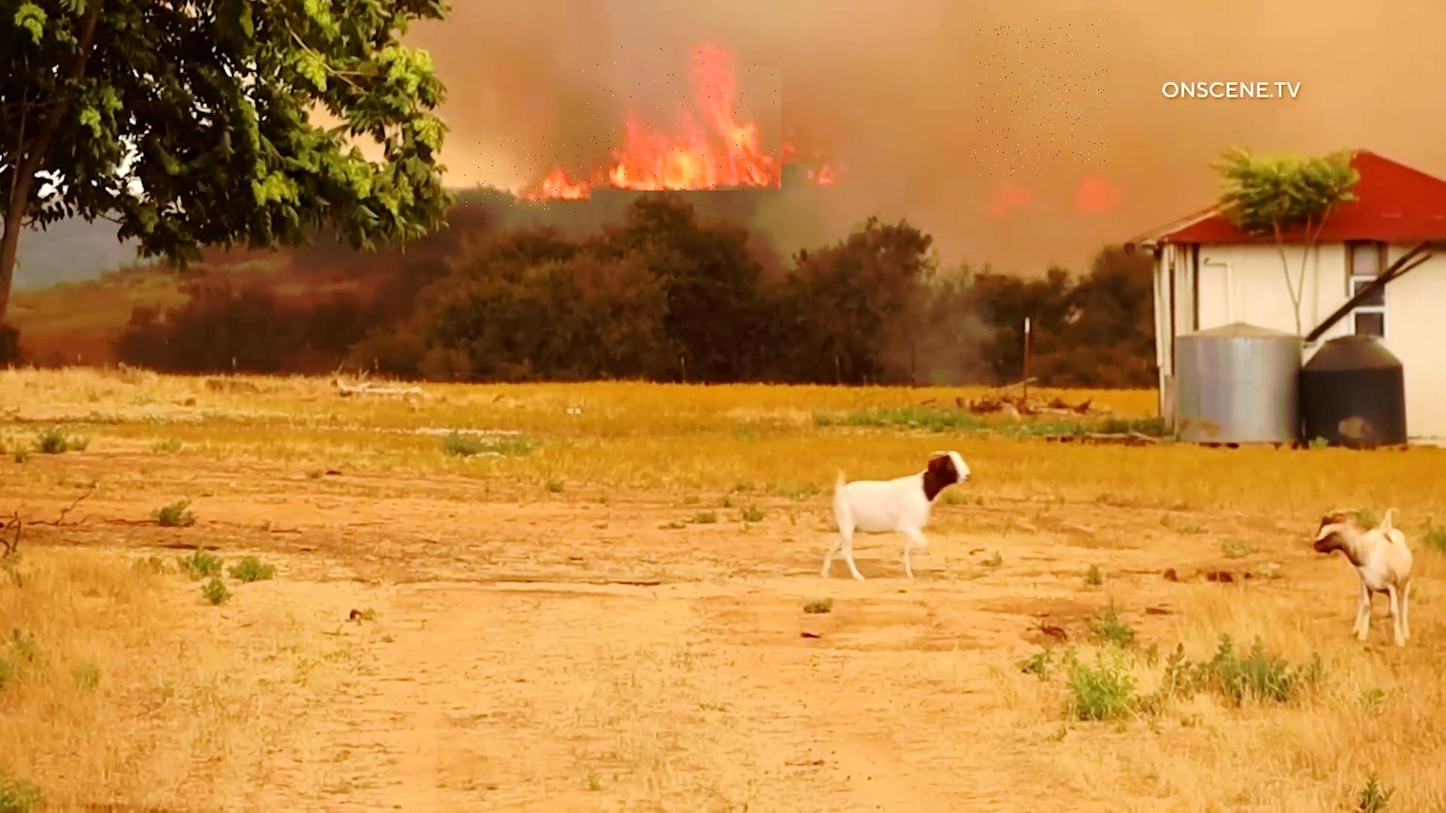fire: (581, 47, 781, 190), (462, 136, 591, 210)
smoke: (974, 17, 1108, 177)
